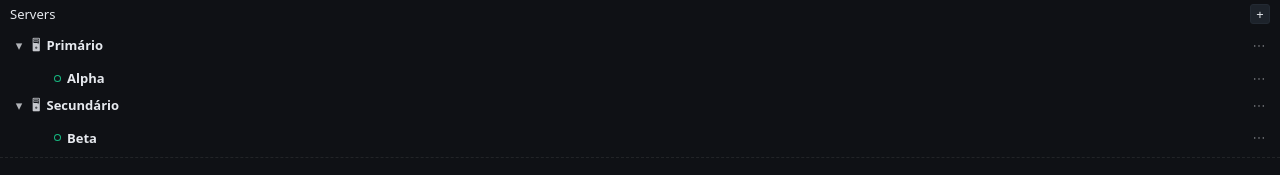
Test: server roots › double click toggles the server subtree (never opens the stage)
Double-click the list item with class "tree-servidor" showing "▾ 🖥 Primário ⋯ Alpha ⋯": point(75, 45) [0, 32, 1279, 92]
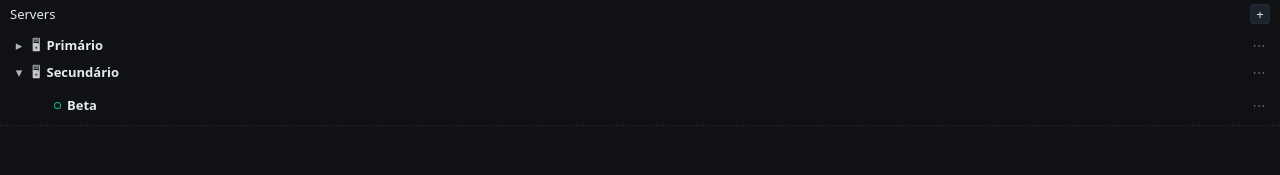
Result: the list "Alpha ⋯" is gone
Double-click the list item with class "tree-servidor" showing "▸ 🖥 Primário ⋯": point(75, 45) [0, 32, 1279, 59]
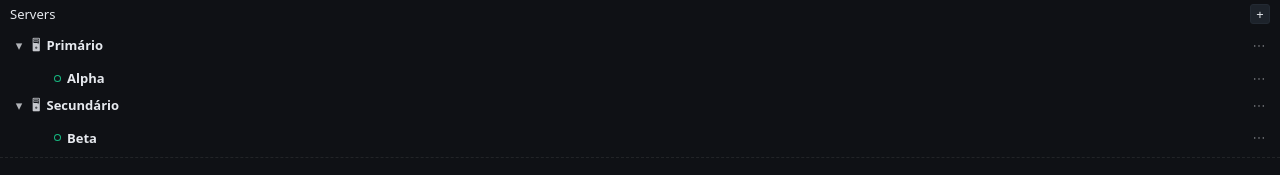
Result: the list with class "tree-filhos" showing "Alpha ⋯" is shown at [2, 65, 1279, 92]
